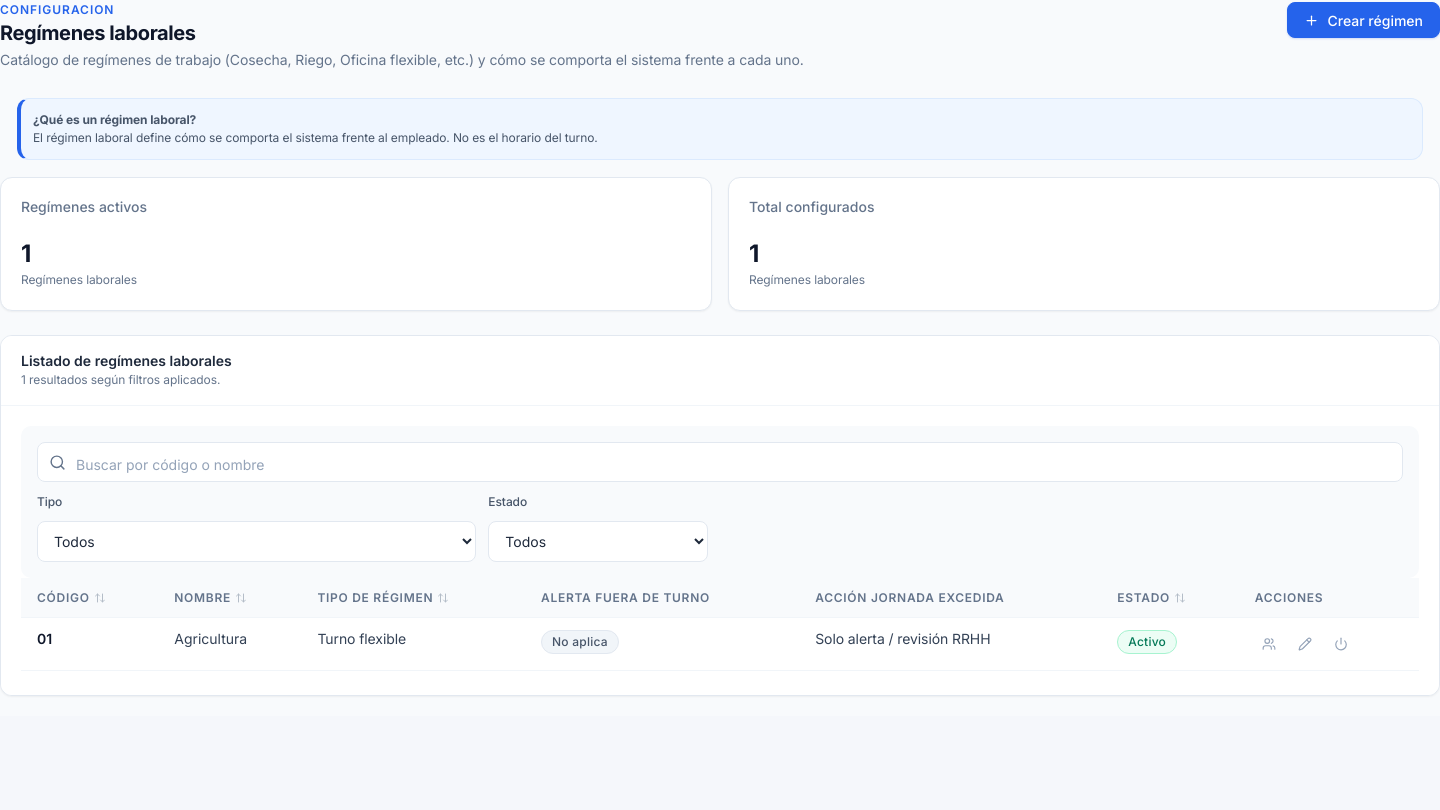
Test: WorkRegimesPage — modal Empleados asociados (Etapa 13J / 13J.1 / 13J.2) › el modal muestra título y subtítulo claros
This screenshot has width=1440, height=810.
Check: the text "Agricultura" is shown, box [174,630,247,647]
Click the button named "Ver empleados asociados" at (1269, 644), box [1255,630,1283,658]
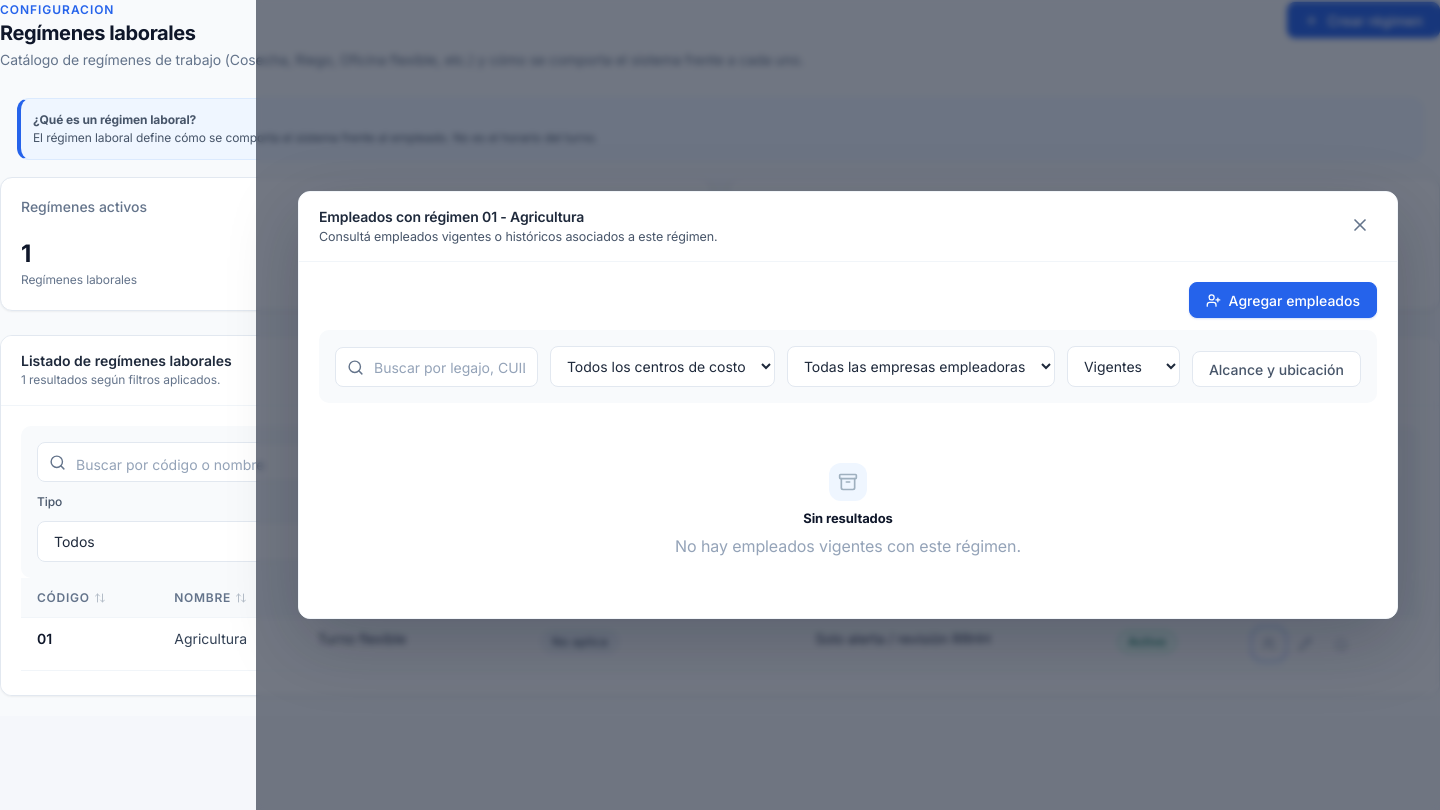
Check: the heading "Empleados con régimen 01 - Agricultura" is shown, box [319,208,584,225]
Check: the text "Consultá empleados vigentes o históricos asociados a este régimen." is shown, box [319,228,718,245]
